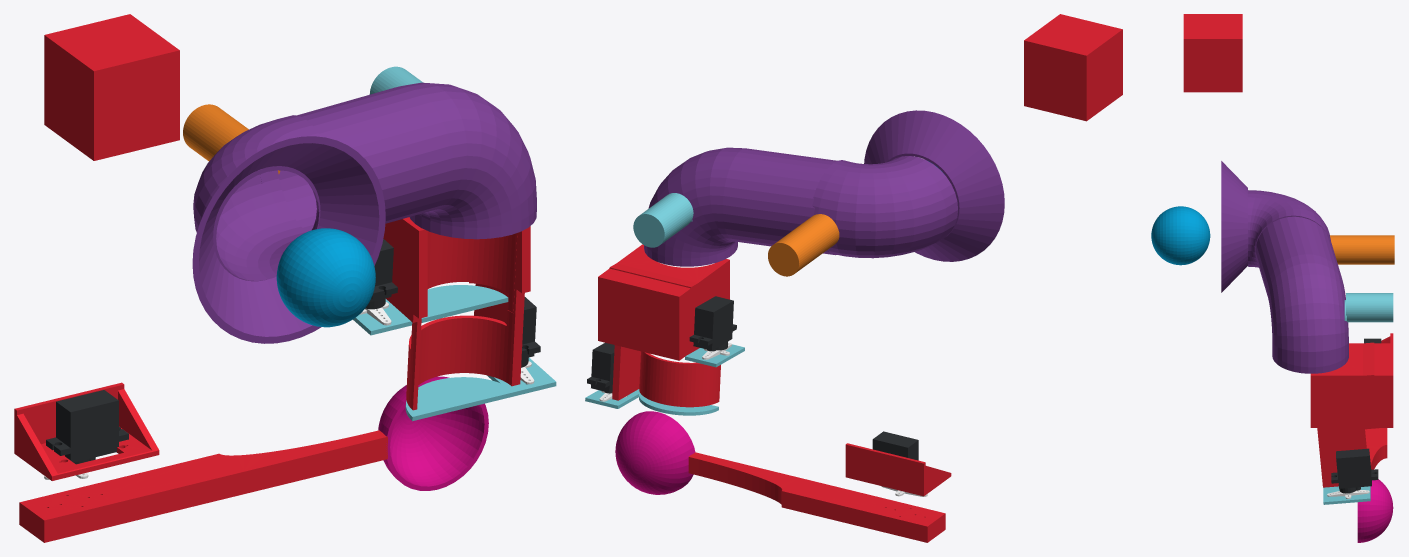
File: tinker.obj
3 views of the same model, side by side, from view 1: azimuth 30°, elevation 25°; view 2: azimuth 150°, elevation 25°; view 3: azimuth 270°, elevation 25° (orthographic). The views are drawn at different scales.
Parts seen in each view (by area): view 1: obj_5, obj_4, obj_3, obj_2, obj_0, obj_1; view 2: obj_5, obj_4, obj_3, obj_2, obj_1, obj_0; view 3: obj_5, obj_4, obj_2, obj_3.
Part boxes in pixels (<box>): obj_5: <box>44,14,536,343</box>; obj_4: <box>353,217,556,421</box>; obj_3: <box>19,390,387,542</box>; obj_2: <box>378,376,488,490</box>; obj_0: <box>14,389,159,480</box>; obj_1: <box>14,382,124,453</box>; obj_5: <box>633,14,1122,276</box>; obj_4: <box>585,244,744,415</box>; obj_3: <box>688,431,945,542</box>; obj_2: <box>615,411,695,494</box>; obj_1: <box>845,443,925,495</box>; obj_0: <box>845,447,951,496</box>; obj_5: <box>1151,14,1394,373</box>; obj_4: <box>1310,342,1393,504</box>; obj_2: <box>1357,479,1393,542</box>; obj_3: <box>1364,338,1387,469</box>.
Size of the model in its own units: 270 by 287 by 165.
